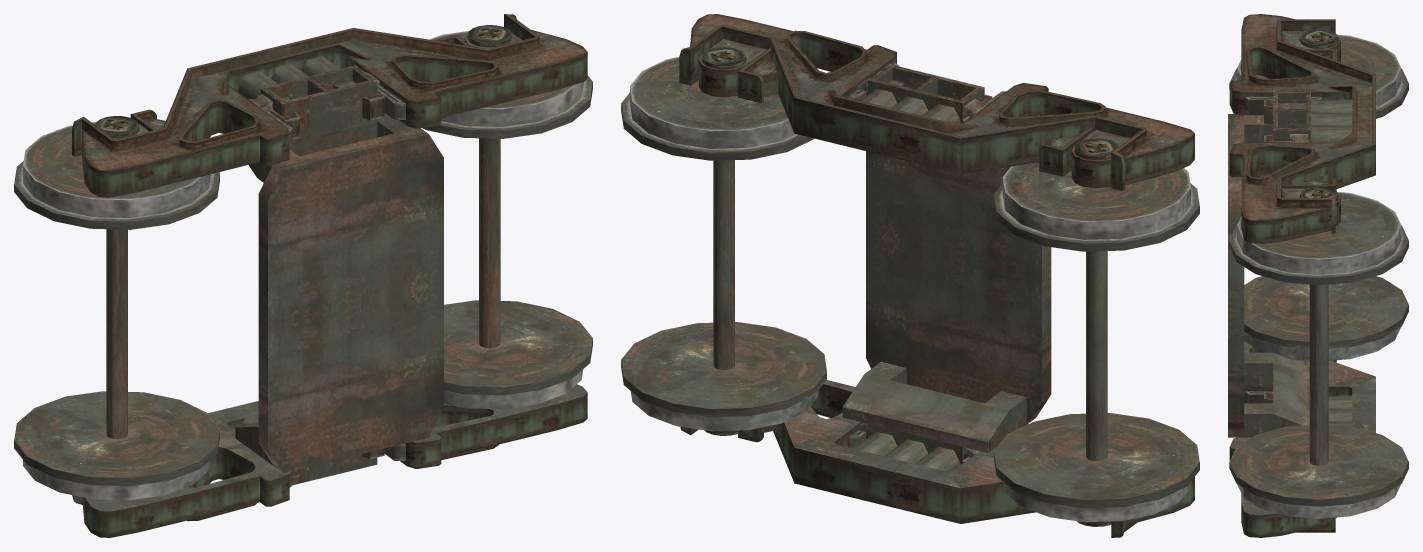
The model's file is prop_trainwheels01.glb.
The picture shows the model from 3 angles, left to right: view 1: azimuth 30°, elevation 25°; view 2: azimuth 150°, elevation 25°; view 3: azimuth 270°, elevation 25°; orthographic projection. The views are drawn at different scales.
Bounding box in the file's own units: 128 × 85.32 × 41.98.
1 material, 1 textured.
